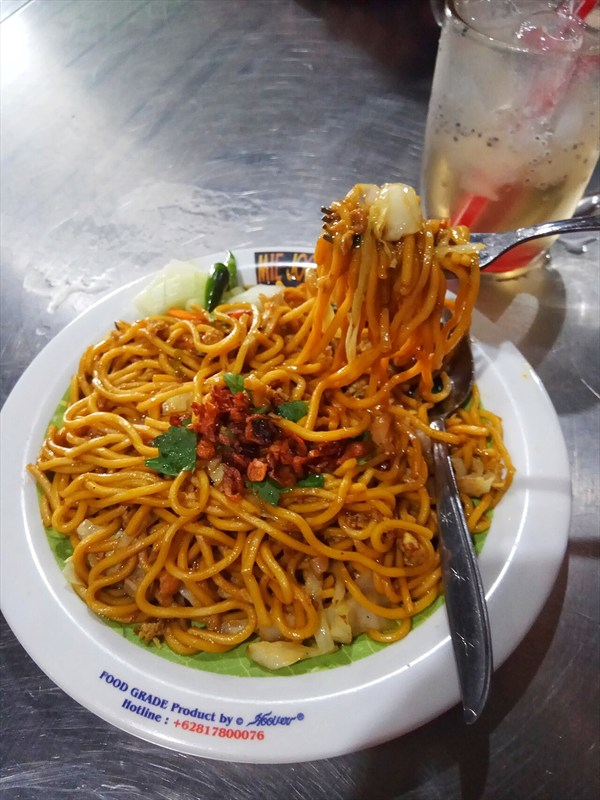Mie Goreng: (58, 219, 490, 648)
